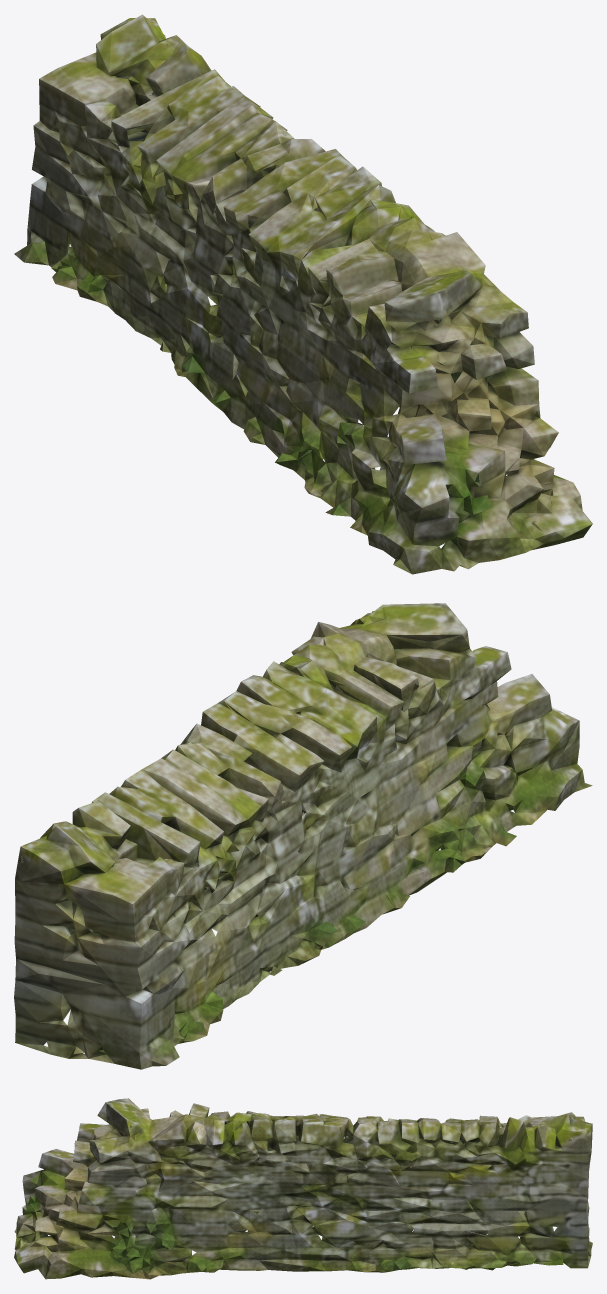
Rendered from wall_a.obj.
The picture shows the model from 3 angles, top to bottom: view 1: azimuth 30°, elevation 25°; view 2: azimuth 150°, elevation 25°; view 3: azimuth 270°, elevation 25°; orthographic projection. The views are drawn at different scales.
Visible parts, largest first — view 1: wall_a; view 2: wall_a; view 3: wall_a.
Boxes of the visible parts, x1,y1,x2,y2 form: wall_a: [14, 14, 592, 574]; wall_a: [14, 603, 592, 1069]; wall_a: [14, 1098, 592, 1279].
Size of the model in its own units: 1.65 by 1.76 by 6.
1 material, 1 textured.
